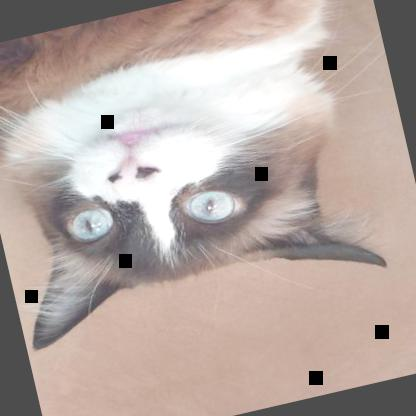cat: (0, 0, 415, 354)
